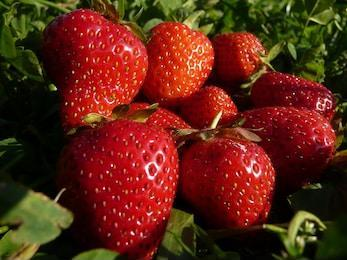Fresa: (59, 116, 183, 260), (29, 5, 149, 136), (179, 131, 280, 235), (141, 18, 217, 109)
